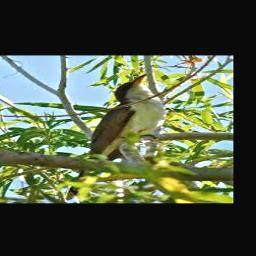Cuckoo: (65, 74, 165, 201)
